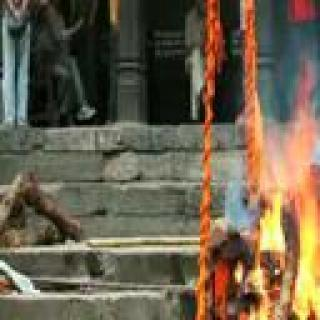fire: (238, 98, 320, 320)
